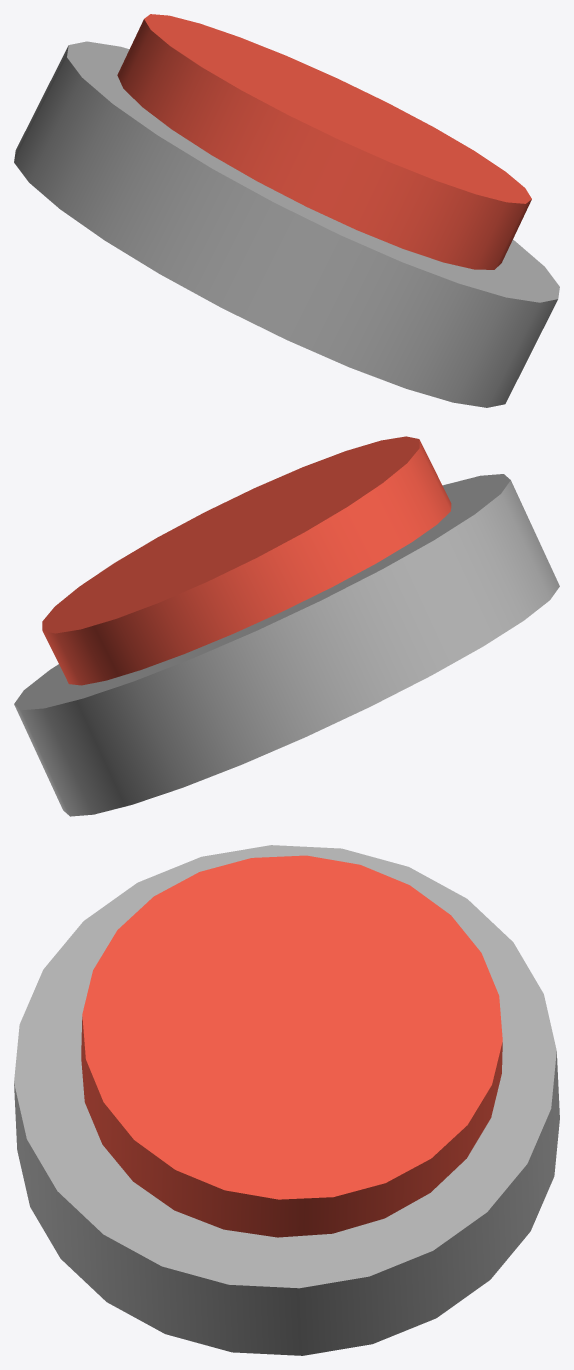
Rendered from lazer hologram puzzle lock activation button.fbx.
3 renders of one model, top to bottom at view 1: azimuth 30°, elevation 25°; view 2: azimuth 150°, elevation 25°; view 3: azimuth 270°, elevation 25°, orthographic.
Visible parts, largest first — view 1: 8e1537b0-0d0a-4442-95e8-250c74175da0; view 2: 8e1537b0-0d0a-4442-95e8-250c74175da0; view 3: 8e1537b0-0d0a-4442-95e8-250c74175da0.
Boxes of the visible parts, left/top/right/bottom form: 8e1537b0-0d0a-4442-95e8-250c74175da0: left=14, top=14, right=559, bottom=407; 8e1537b0-0d0a-4442-95e8-250c74175da0: left=14, top=436, right=559, bottom=816; 8e1537b0-0d0a-4442-95e8-250c74175da0: left=14, top=845, right=559, bottom=1355.
Bounding box in the file's own units: 6371 × 4800 × 6564.
